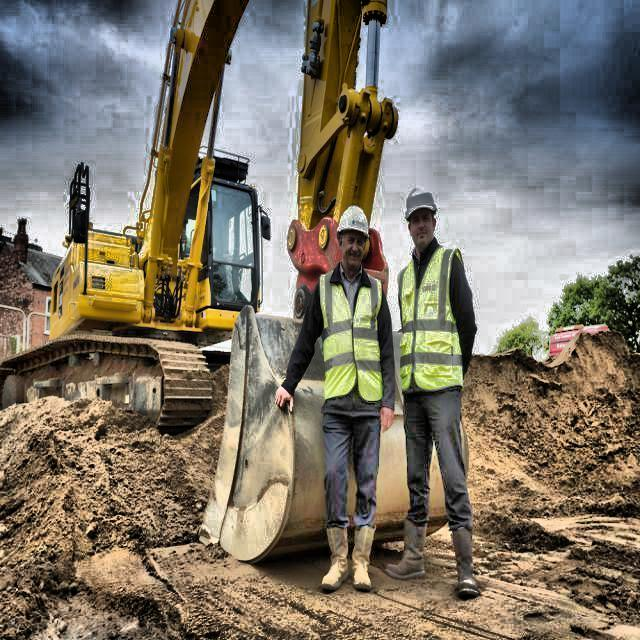safety_jacket: (393, 240, 470, 399), (307, 267, 390, 404)
